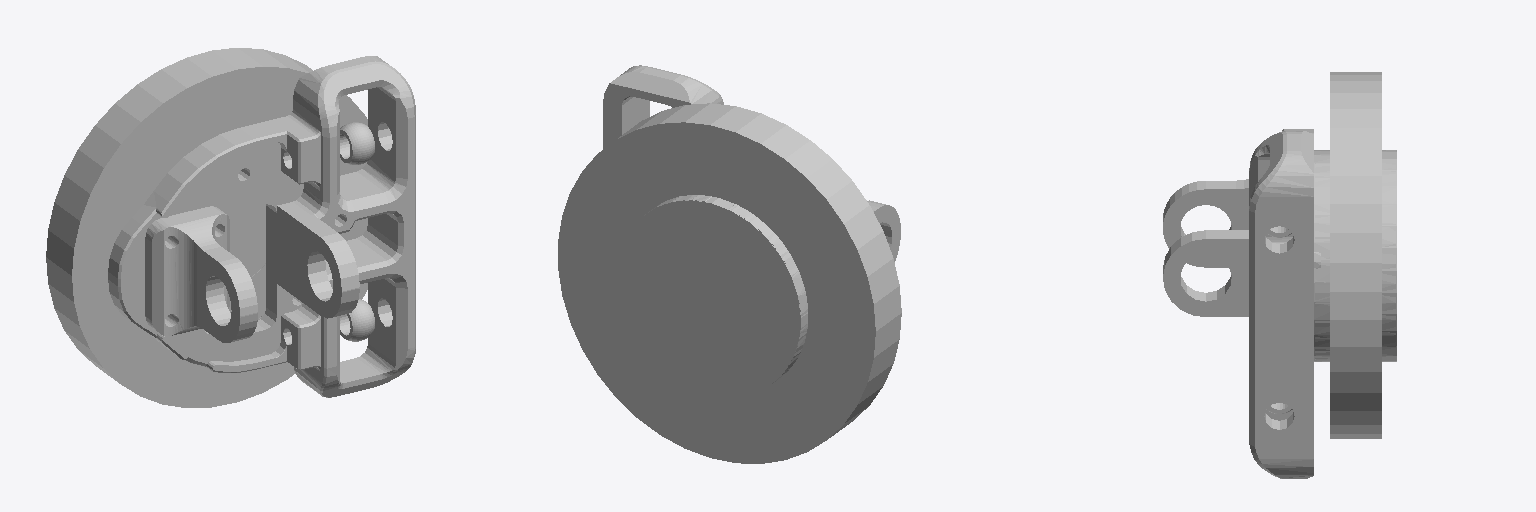
Rendered from waist_yaw_link_visuals.obj.
3 views of the same model, side by side, from view 1: azimuth 30°, elevation 25°; view 2: azimuth 150°, elevation 25°; view 3: azimuth 270°, elevation 25° (orthographic).
Bounding box in the file's own units: 0.0849 × 0.0849 × 0.0542.